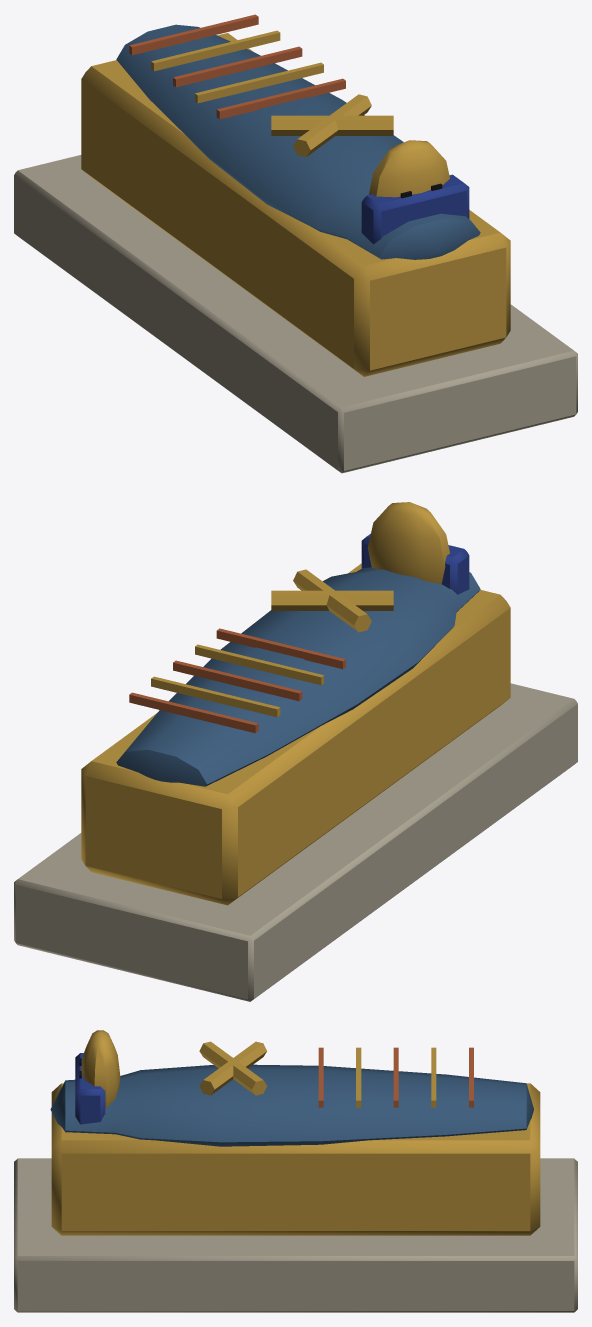
Rendered from sarcophagus.glb.
The picture shows the model from 3 angles, top to bottom: view 1: azimuth 30°, elevation 25°; view 2: azimuth 150°, elevation 25°; view 3: azimuth 270°, elevation 25°; orthographic projection. The views are drawn at different scales.
Parts seen in each view (by area): view 1: Sarcophagus; view 2: Sarcophagus; view 3: Sarcophagus.
Part boxes in pixels (box(x1,y1,x2,y2)): Sarcophagus: box(14, 14, 577, 473); Sarcophagus: box(14, 502, 577, 1001); Sarcophagus: box(14, 1030, 577, 1312).
Size of the model in its own units: 0.95 by 1.02 by 2.25.
